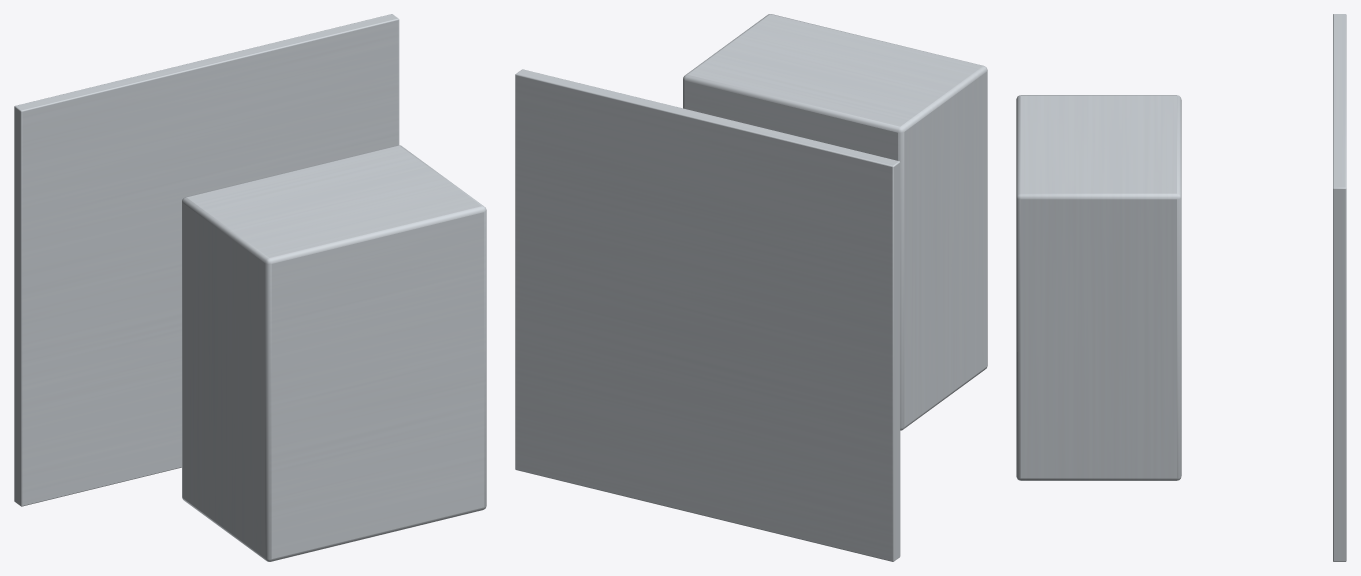
The model's file is left_arm_base_aluminium.obj.
3 renders of one model, left to right at view 1: azimuth 30°, elevation 25°; view 2: azimuth 150°, elevation 25°; view 3: azimuth 270°, elevation 25°, orthographic. The views are drawn at different scales.
Visible parts, largest first — view 1: left_arm_base__shoulder_saddle, left_arm_base__root_plate; view 2: left_arm_base__root_plate, left_arm_base__shoulder_saddle; view 3: left_arm_base__shoulder_saddle, left_arm_base__root_plate.
Part boxes in pixels (bbox=[...]): left_arm_base__shoulder_saddle: bbox=[182, 145, 486, 561]; left_arm_base__root_plate: bbox=[14, 14, 399, 506]; left_arm_base__root_plate: bbox=[515, 69, 900, 561]; left_arm_base__shoulder_saddle: bbox=[683, 14, 987, 430]; left_arm_base__shoulder_saddle: bbox=[1016, 95, 1181, 480]; left_arm_base__root_plate: bbox=[1333, 14, 1346, 561].
Bounding box in the file's own units: 0.06 × 0.06 × 0.048.
Materials: 1 (1 with a texture image).
